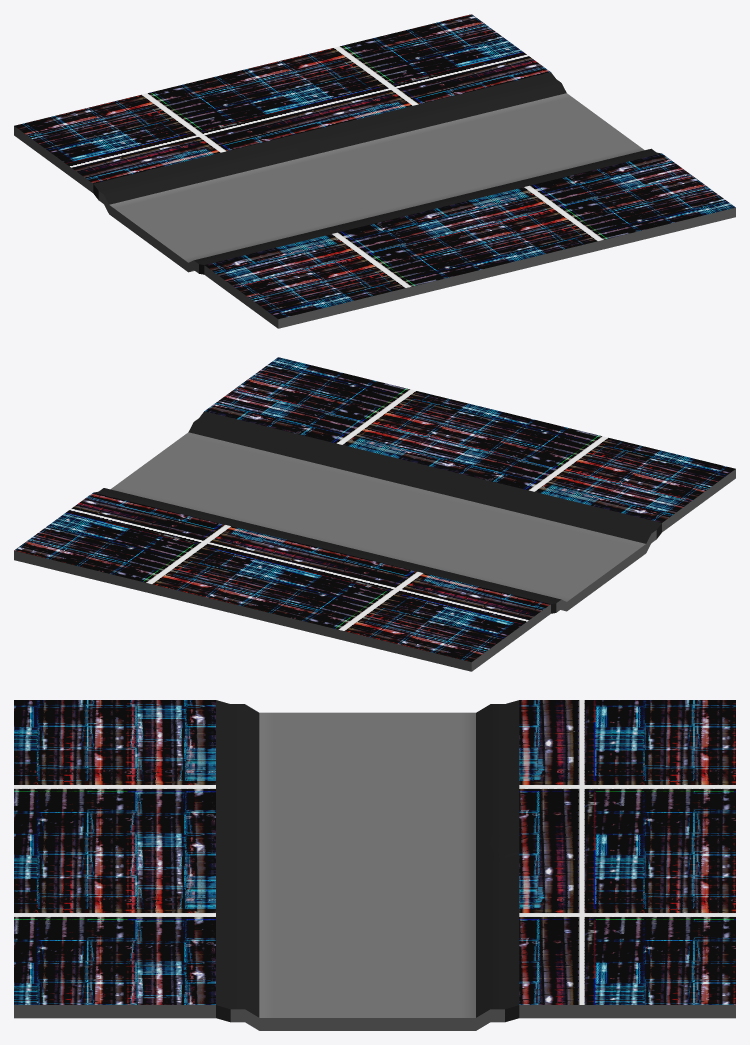
File: road.fbx
3 renders of one model, top to bottom at view 1: azimuth 30°, elevation 25°; view 2: azimuth 150°, elevation 25°; view 3: azimuth 270°, elevation 25°, orthographic. The views are drawn at different scales.
Parts seen in each view (by area): view 1: pCube1; view 2: pCube1; view 3: pCube1.
Boxes of the visible parts, x1=… form: pCube1: x1=14, y1=14, x2=735, y2=328; pCube1: x1=14, y1=357, x2=735, y2=671; pCube1: x1=14, y1=700, x2=735, y2=1030.
Size of the model in its own units: 50 by 1.97 by 50.
Materials: 4 (1 with a texture image).
